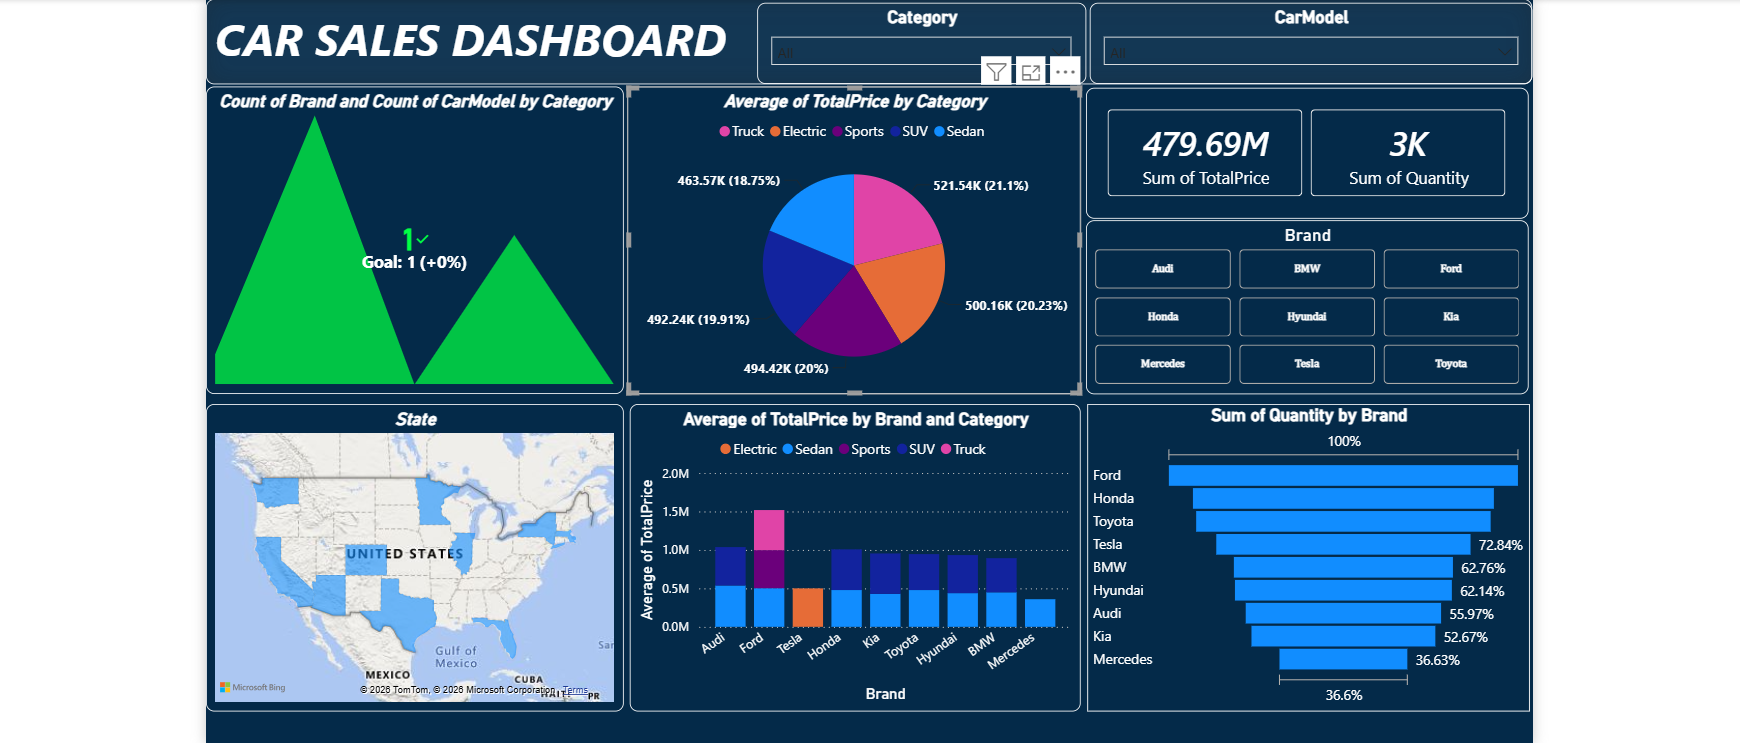

The page's visual inventory and layout, read from the dashboard file:
{"tool":"powerbi","page":{"name":"Page 1","canvas":[1280,720],"ordinal":0},"visuals":[{"type":"textbox","box":[0,0,1280,82],"z":0},{"type":"kpi","fields":{"TrendLine":["carsalesdb cars.Category"],"Indicator":["CountNonNull(carsalesdb cars.Brand)"],"Goal":["CountNonNull(carsalesdb cars.CarModel)"]},"box":[0,84.5,403,296.8],"z":1000},{"type":"filledMap","fields":{"Category":["carsalesdb dealers.State"]},"box":[0,391,403,297],"z":2000},{"type":"pieChart","fields":{"Category":["carsalesdb cars.Category"],"Y":["Avg(carsalesdb sales.TotalPrice)"]},"box":[406.6,84.5,437.9,296.8],"z":3000},{"type":"cardVisual","fields":{"Data":["Sum(carsalesdb sales.TotalPrice)","Sum(carsalesdb sales.Quantity)"]},"box":[849.3,85.7,427.1,126.7],"z":4000},{"type":"slicer","title":"CarModel","fields":{"Values":["carsalesdb cars.CarModel"]},"box":[853,3.6,427.1,78.4],"z":5000},{"type":"slicer","title":"Category","fields":{"Values":["carsalesdb cars.Category"]},"box":[532,3.6,317.3,78.4],"z":6000},{"type":"lineStackedColumnComboChart","fields":{"Category":["carsalesdb cars.Brand"],"Y":["Avg(carsalesdb sales.TotalPrice)"],"Series":["carsalesdb cars.Category"]},"box":[409,390.9,435.5,296.8],"z":7000},{"type":"funnel","fields":{"Y":["Sum(carsalesdb sales.Quantity)"],"Category":["carsalesdb cars.Brand"]},"box":[850.5,390.9,427.1,296.8],"z":7001},{"type":"advancedSlicerVisual","fields":{"Values":["carsalesdb cars.Brand"]},"box":[849,213,427,168],"z":7002}]}

Visuals, with their boxes on the page's 1280x720 design canvas (x1, y1, x2, y2). These are canvas units, not pixel positions in the 1740x743 screenshot, which may show the page scaled, cropped or inside an application window:
textbox: l=0, t=0, r=1280, b=82
kpi - carsalesdb cars.Category x CountNonNull(carsalesdb cars.Brand): l=0, t=84, r=403, b=381
filledMap - carsalesdb dealers.State: l=0, t=391, r=403, b=688
pieChart - carsalesdb cars.Category x Avg(carsalesdb sales.TotalPrice): l=407, t=84, r=844, b=381
cardVisual - Sum(carsalesdb sales.TotalPrice) x Sum(carsalesdb sales.Quantity): l=849, t=86, r=1276, b=212
"CarModel" slicer: l=853, t=4, r=1280, b=82
"Category" slicer: l=532, t=4, r=849, b=82
lineStackedColumnComboChart - carsalesdb cars.Brand x Avg(carsalesdb sales.TotalPrice): l=409, t=391, r=844, b=688
funnel - Sum(carsalesdb sales.Quantity) x carsalesdb cars.Brand: l=850, t=391, r=1278, b=688
advancedSlicerVisual - carsalesdb cars.Brand: l=849, t=213, r=1276, b=381
